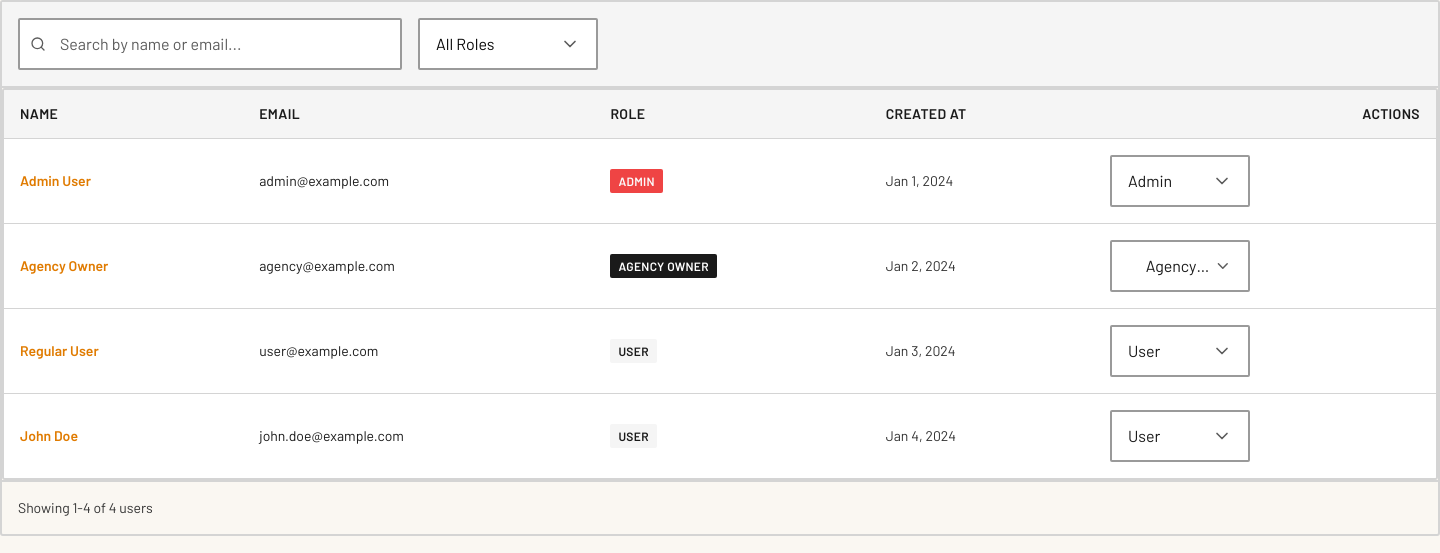
Test: UsersTable › shows empty state when no users match filters
Step 1. Type "nonexistent" into the field with placeholder "Search by name or email..." → (210, 44), box [18,18,402,70]
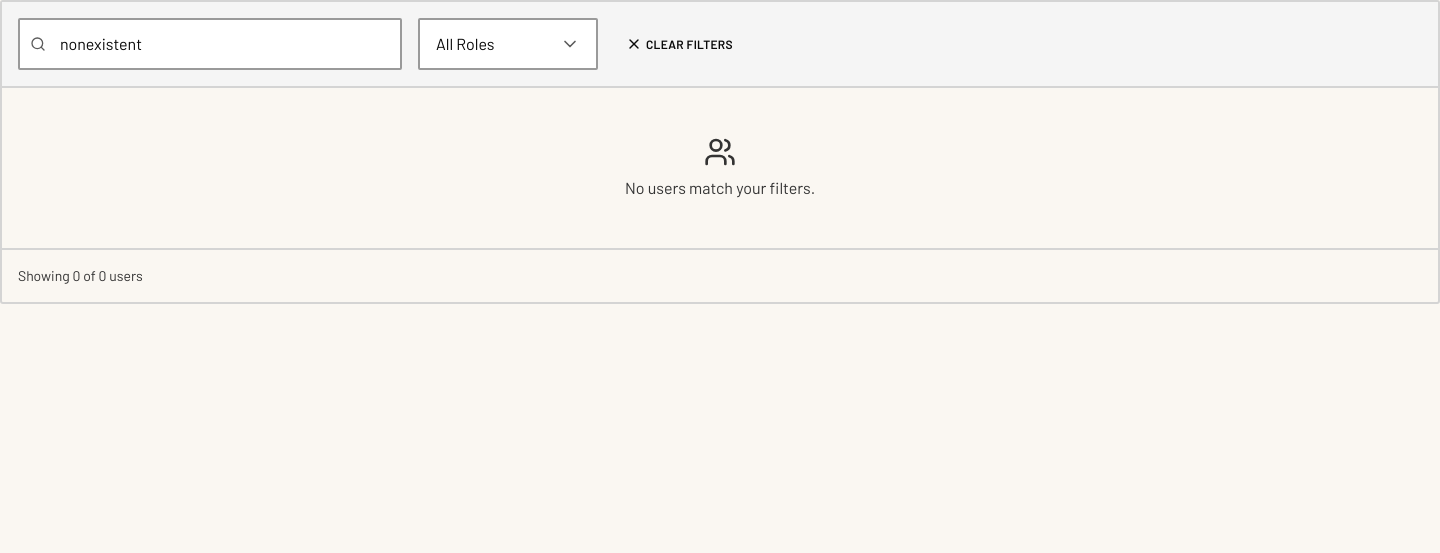
expect the text "No users match your filters." is shown: met, box [625,176,815,200]
